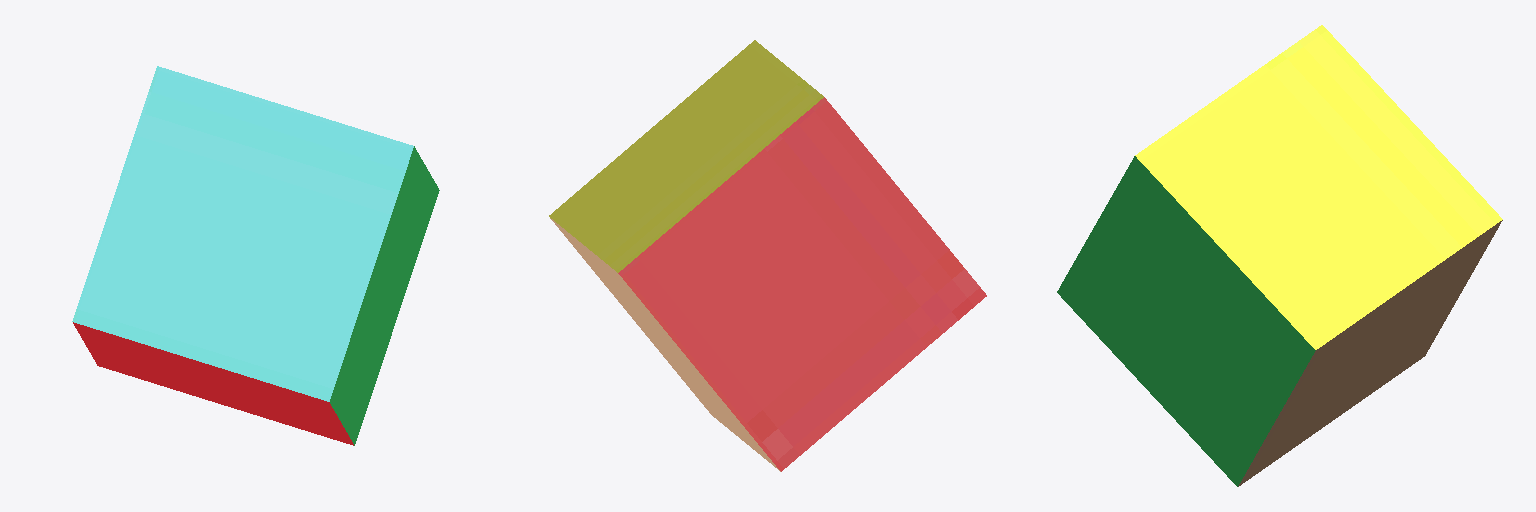
The picture shows the model from 3 angles: view 1: azimuth 30°, elevation 25°; view 2: azimuth 150°, elevation 25°; view 3: azimuth 270°, elevation 25°; orthographic projection.
Parts seen in each view (by area): view 1: cube; view 2: cube; view 3: cube.
Boxes of the visible parts, x1=… form: cube: x1=72, y1=66, x2=439, y2=445; cube: x1=549, y1=40, x2=986, y2=471; cube: x1=1057, y1=25, x2=1502, y2=486.
Bounding box in the file's own units: 1.71 × 1.57 × 1.64.
1 materials, 1 textured.